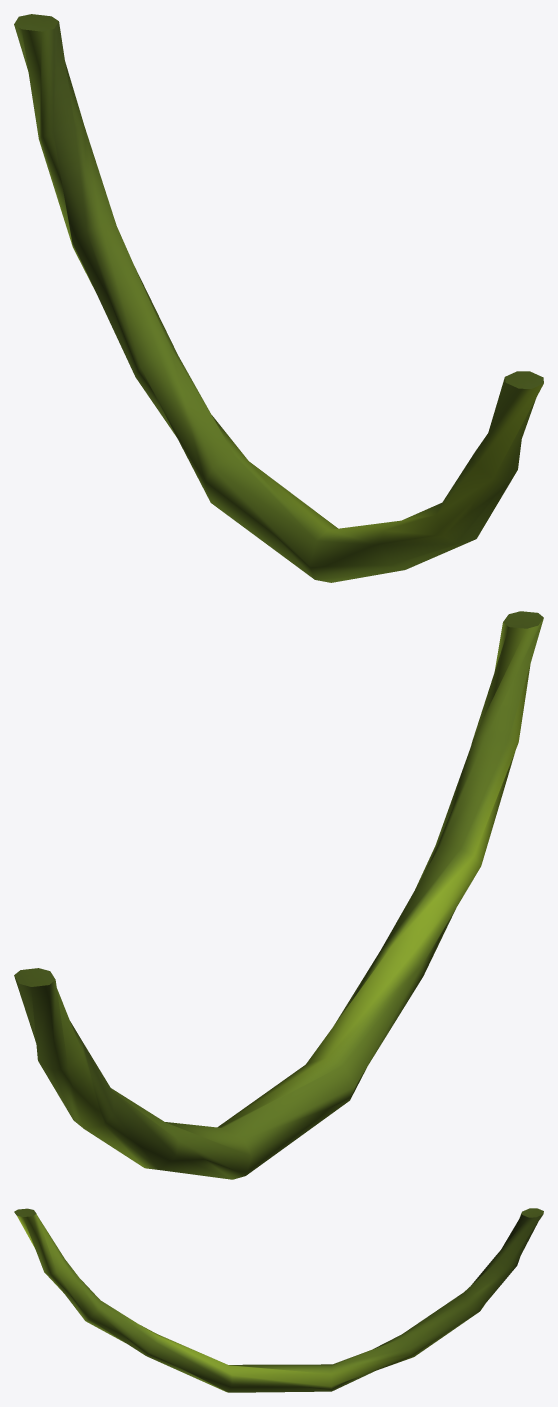
File: vine_horizontal_curve_big_green_LOD_group.fbx
3 views of the same model, one above another, from view 1: azimuth 30°, elevation 25°; view 2: azimuth 150°, elevation 25°; view 3: azimuth 270°, elevation 25° (orthographic). The views are drawn at different scales.
Visible parts, largest first — view 1: vine_horizontal_curve_big_green_LOD0; view 2: vine_horizontal_curve_big_green_LOD0; view 3: vine_horizontal_curve_big_green_LOD0.
Part boxes in pixels (x1,y1,x2,y2): vine_horizontal_curve_big_green_LOD0: [14, 14, 543, 582]; vine_horizontal_curve_big_green_LOD0: [14, 611, 543, 1179]; vine_horizontal_curve_big_green_LOD0: [14, 1208, 543, 1392].
Size of what is drawn, in the model's own units: 16.63 by 114 by 305.
Materials: 1 (1 with a texture image).
